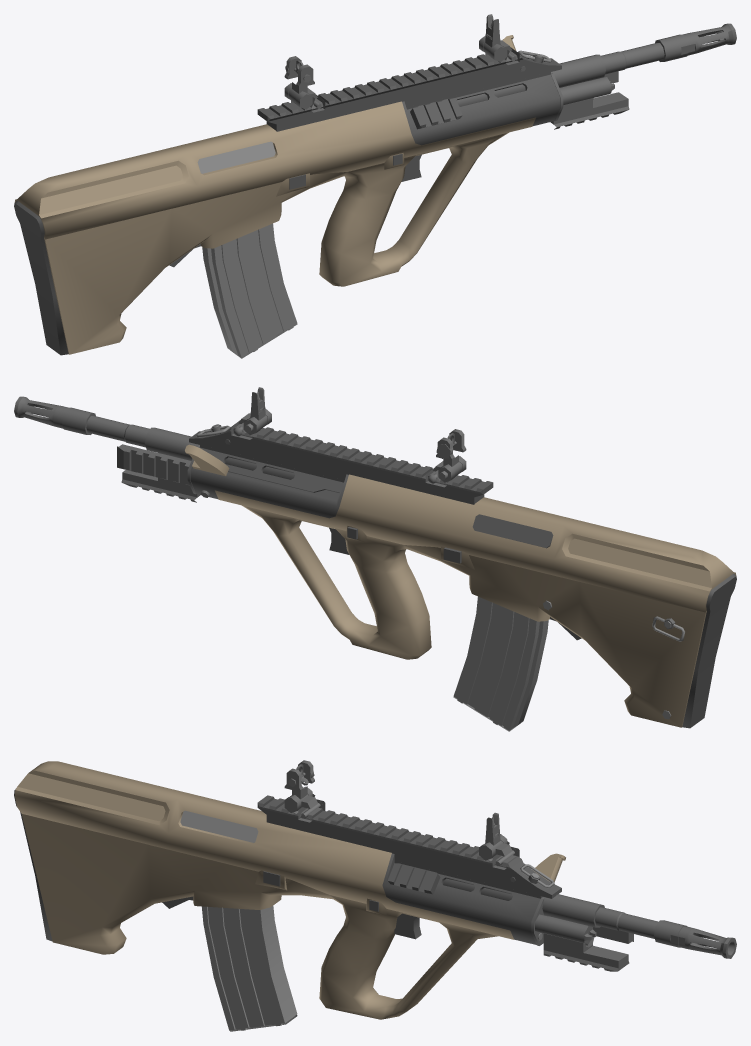
3 views of the same model, one above another, from view 1: azimuth 30°, elevation 25°; view 2: azimuth 150°, elevation 25°; view 3: azimuth 330°, elevation 25° (orthographic).
Visible parts, largest first — view 1: Cylinder.006, STANAG, SIG RearSight, Bolt, SIG FrontSight; view 2: Cylinder.006, STANAG, SIG RearSight, SIG FrontSight, BoltCarry; view 3: Cylinder.006, STANAG, SIG RearSight, Bolt, SIG FrontSight, Trigger, BoltCarry.
Part boxes in pixels (box(x1,y1,x2,y2)): Cylinder.006: box(14, 23, 736, 355); STANAG: box(202, 223, 297, 358); SIG RearSight: box(284, 56, 325, 112); Bolt: box(197, 141, 275, 173); SIG FrontSight: box(479, 14, 519, 64); Cylinder.006: box(14, 396, 736, 728); STANAG: box(453, 596, 548, 731); SIG RearSight: box(425, 429, 466, 487); SIG FrontSight: box(231, 387, 271, 439); BoltCarry: box(185, 444, 229, 476); Cylinder.006: box(14, 761, 736, 1019); STANAG: box(201, 906, 297, 1031); SIG RearSight: box(284, 760, 325, 822); Bolt: box(180, 810, 258, 842); SIG FrontSight: box(479, 812, 519, 869); Trigger: box(394, 913, 421, 939); BoltCarry: box(533, 853, 565, 882).
Bounding box in the file's own units: 15.6 × 5.86 × 1.7.
